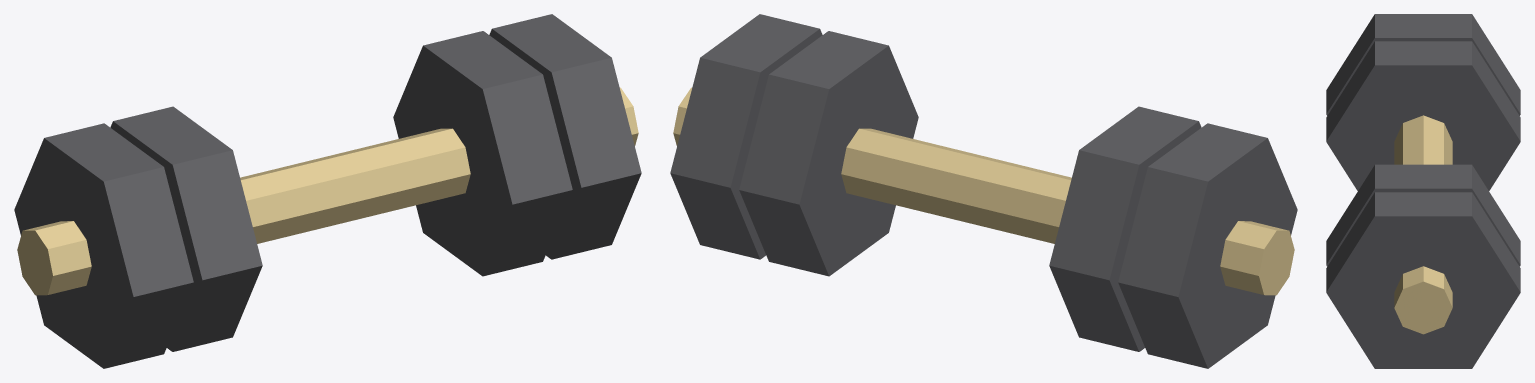
Rendered from dumbbell.glb.
3 renders of one model, left to right at view 1: azimuth 30°, elevation 25°; view 2: azimuth 150°, elevation 25°; view 3: azimuth 270°, elevation 25°, orthographic. The views are drawn at different scales.
Parts seen in each view (by area): view 1: dumbbell; view 2: dumbbell; view 3: dumbbell.
Part boxes in pixels (bbox=[...]): dumbbell: bbox=[14, 14, 641, 368]; dumbbell: bbox=[670, 14, 1297, 368]; dumbbell: bbox=[1326, 14, 1520, 368].
Bounding box in the file's own units: 0.34 × 0.1039 × 0.12.
